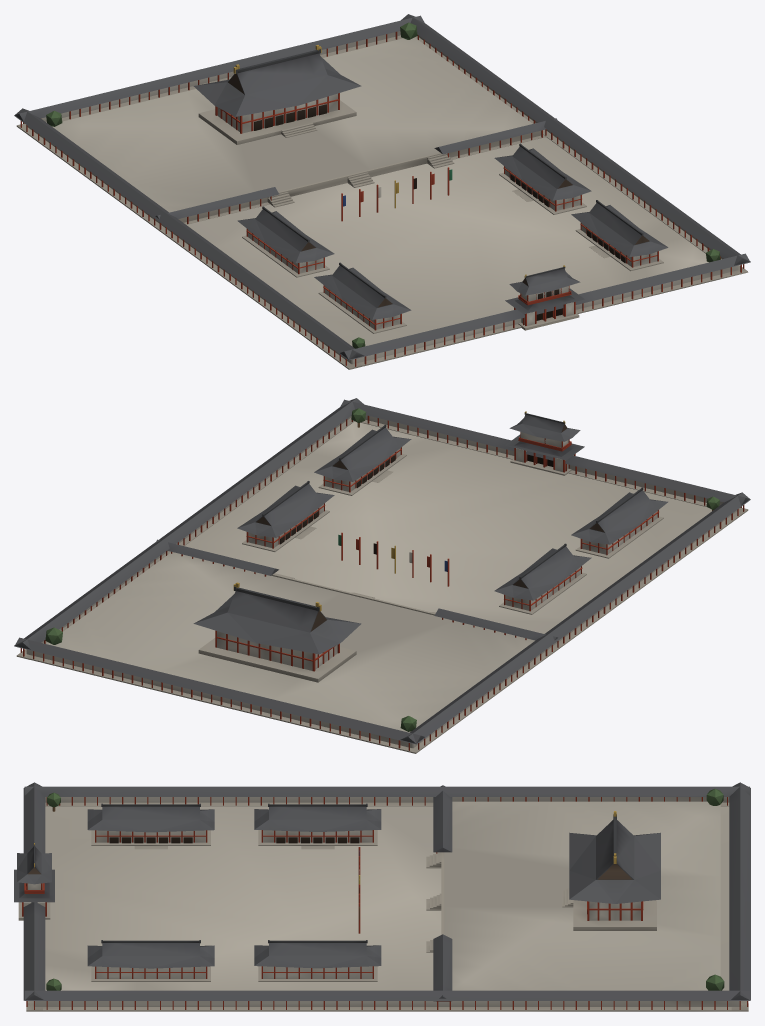
File: daigokuden.glb
The picture shows the model from 3 angles, top to bottom: view 1: azimuth 30°, elevation 25°; view 2: azimuth 150°, elevation 25°; view 3: azimuth 270°, elevation 25°; orthographic projection. The views are drawn at different scales.
Parts seen in each view (by area): view 1: p0_grounds, p1_halls, p2_roofs; view 2: p0_grounds, p1_halls, p2_roofs; view 3: p0_grounds, p1_halls, p2_roofs.
Part boxes in pixels (x1,y1,x2,y2): p0_grounds: (52, 37, 748, 369); p1_halls: (14, 14, 750, 369); p2_roofs: (46, 22, 720, 348); p0_grounds: (30, 421, 711, 753); p1_halls: (14, 398, 750, 753); p2_roofs: (45, 408, 719, 731); p0_grounds: (45, 801, 729, 990); p1_halls: (18, 782, 750, 1011); p2_roofs: (14, 788, 724, 990).
Size of the model in its own units: 182 by 29.18 by 265.
